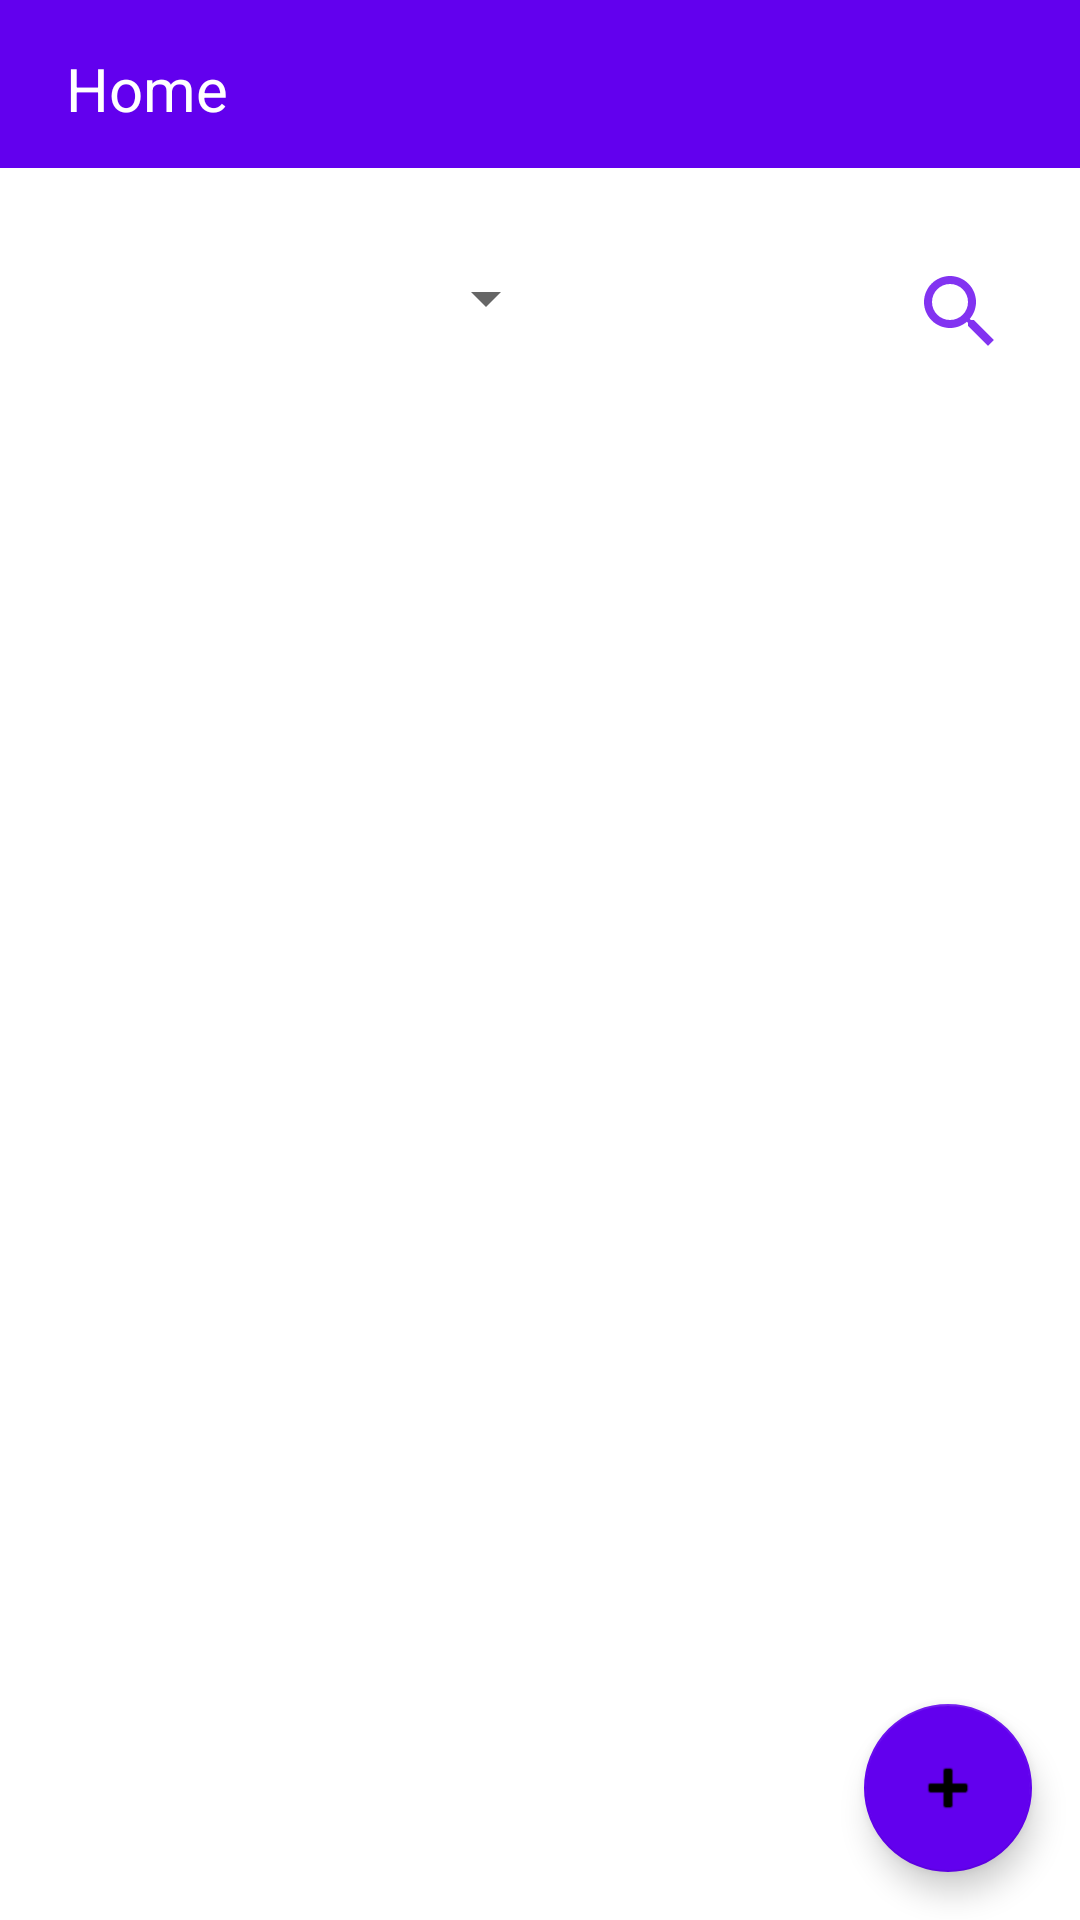

Icons on this 1080 × 1920 Android screen, each with the point to tap as point (x, y):
add: point (948, 1788)
search: point (959, 311)
